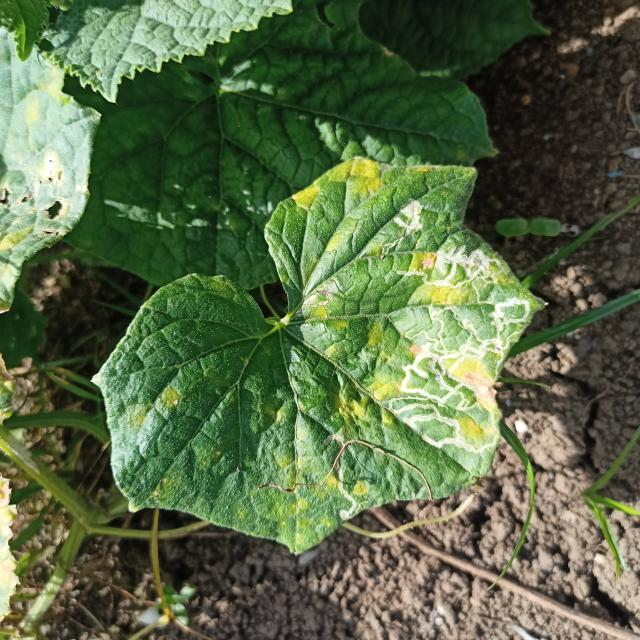disease_cucumber: (315, 255, 522, 453), (273, 426, 376, 540), (295, 152, 388, 257), (128, 386, 182, 431)
